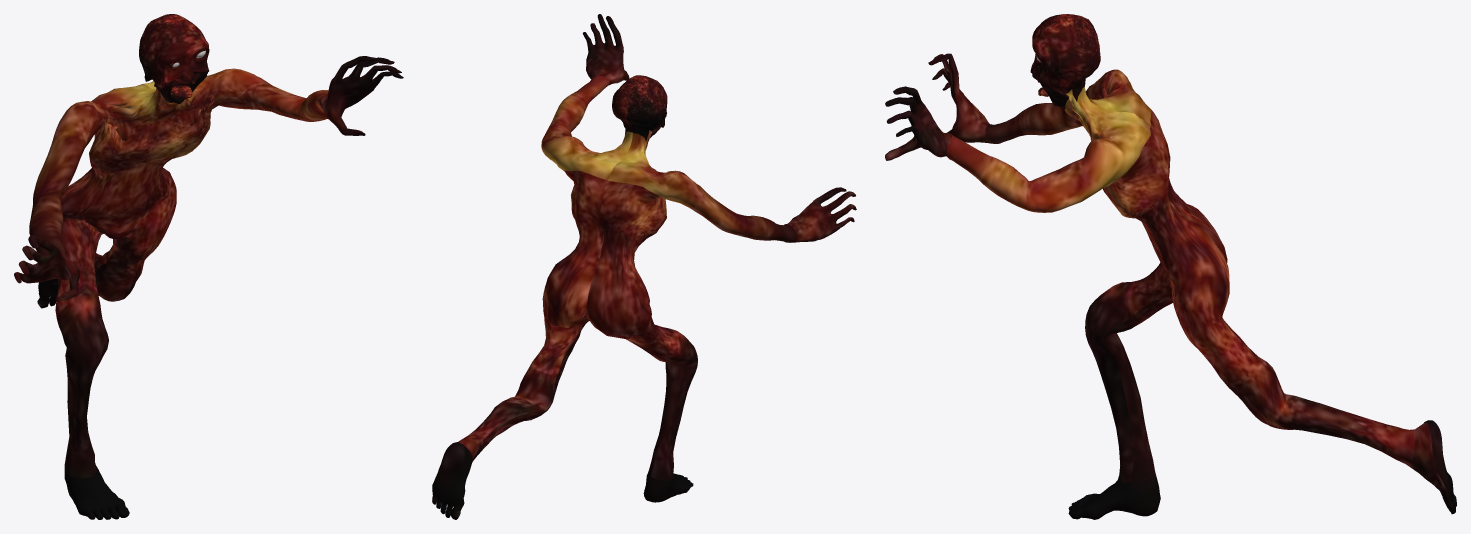
File: Zombie.obj
The picture shows the model from 3 angles, left to right: view 1: azimuth 30°, elevation 25°; view 2: azimuth 150°, elevation 25°; view 3: azimuth 270°, elevation 25°; orthographic projection. The views are drawn at different scales.
Visible parts, largest first — view 1: zombie_maleskel-male_generic_0; view 2: zombie_maleskel-male_generic_0; view 3: zombie_maleskel-male_generic_0.
Part boxes in pixels (bbox=[...]): zombie_maleskel-male_generic_0: bbox=[14, 14, 403, 519]; zombie_maleskel-male_generic_0: bbox=[432, 14, 856, 519]; zombie_maleskel-male_generic_0: bbox=[885, 14, 1456, 519].
Bounding box in the file's own units: 1.38 × 1.79 × 1.76.
